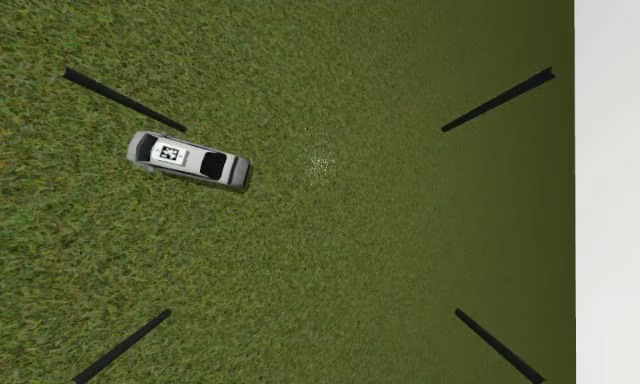Car: (126, 131, 250, 192)
Landing Pad: (151, 143, 188, 167)
